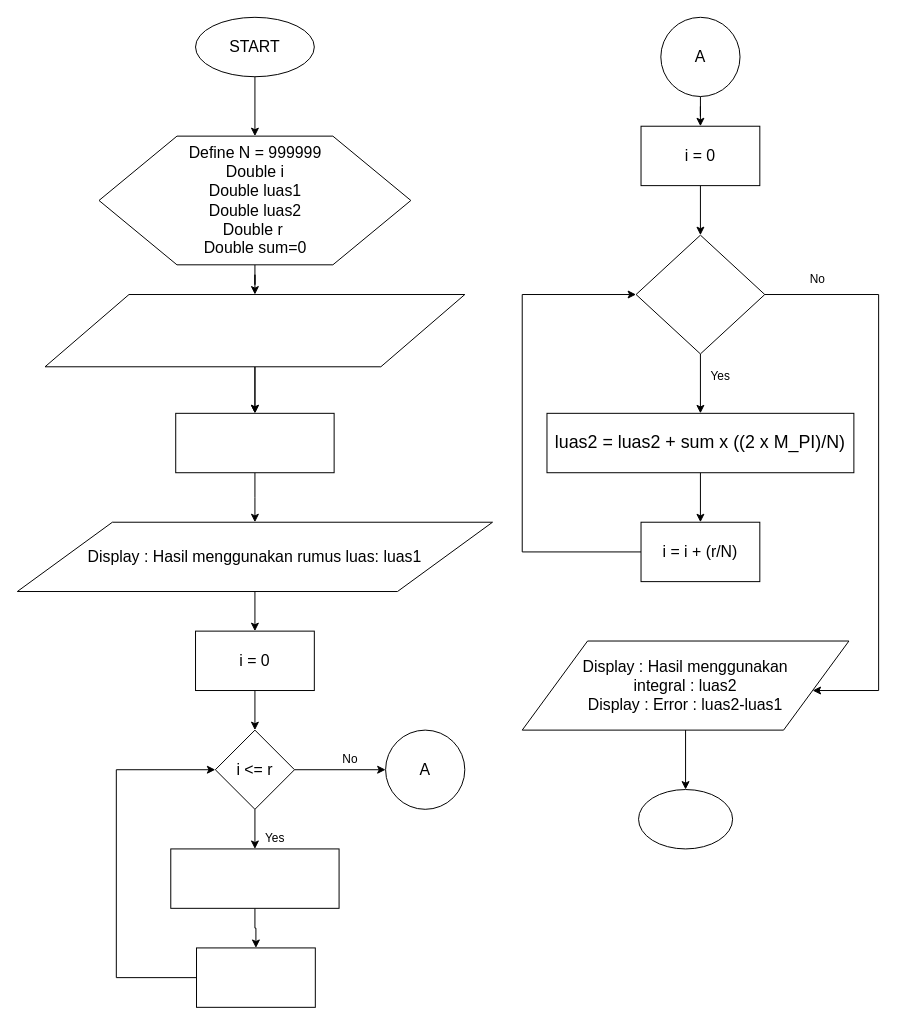
This 904x1025 diagram has some shape labels left out. Here are the shapes that lost their labels. From the top down, the centre of each, then its label:
the point at 700,294: i <= 2 x M_PI
the point at 254,330: Display : Masukkan nilai jari-jari: Input : r
the point at 254,442: luas1 = M_PI x r x r
the point at 685,819: END
the point at 254,878: sum = sum + (r/N)
the point at 255,977: i = i +(r/N)
